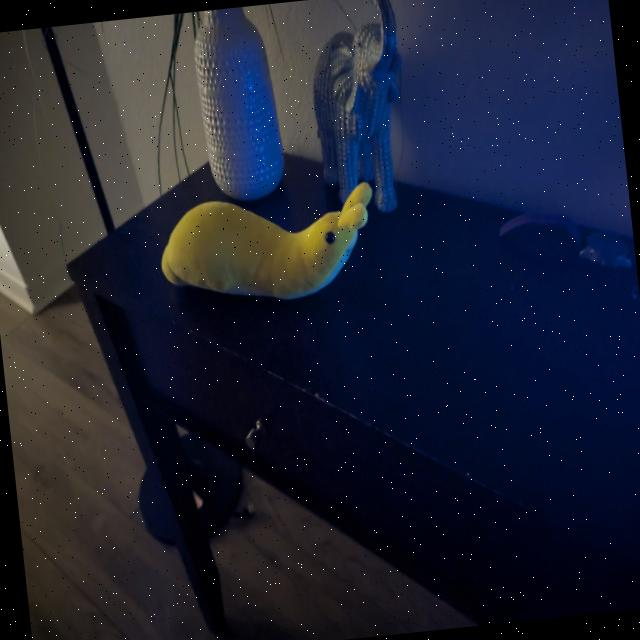banana-slug-toy: (144, 166, 398, 328)
